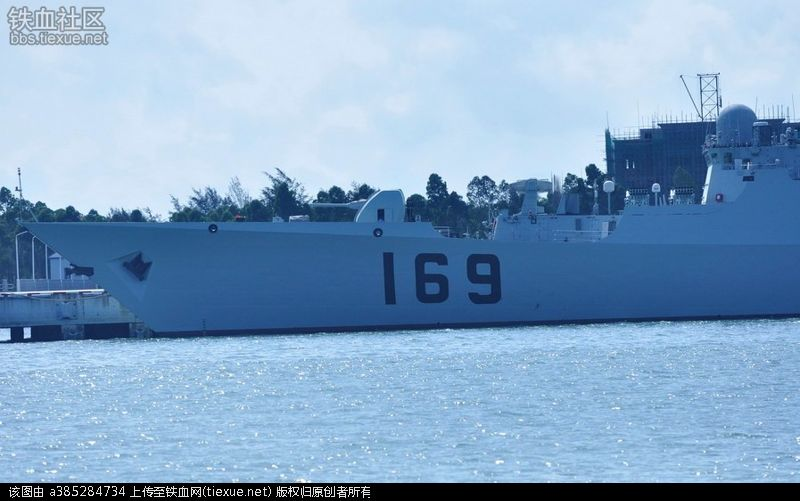warship: (13, 89, 800, 332)
